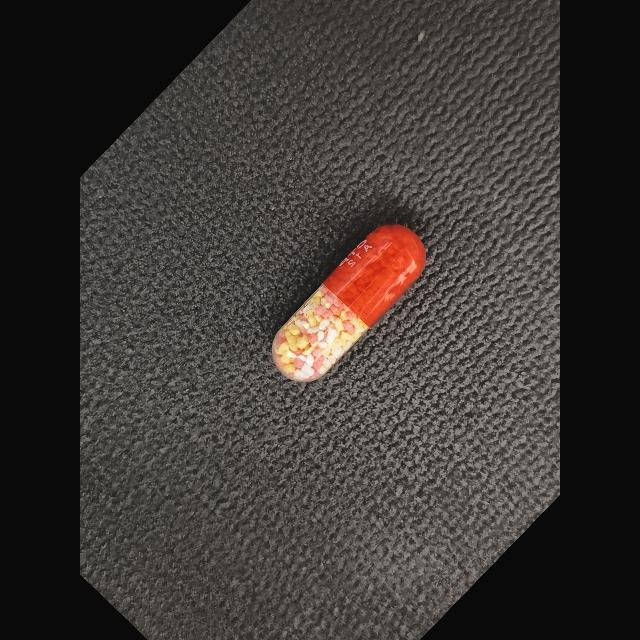Intact Capsule: (272, 225, 426, 382)
